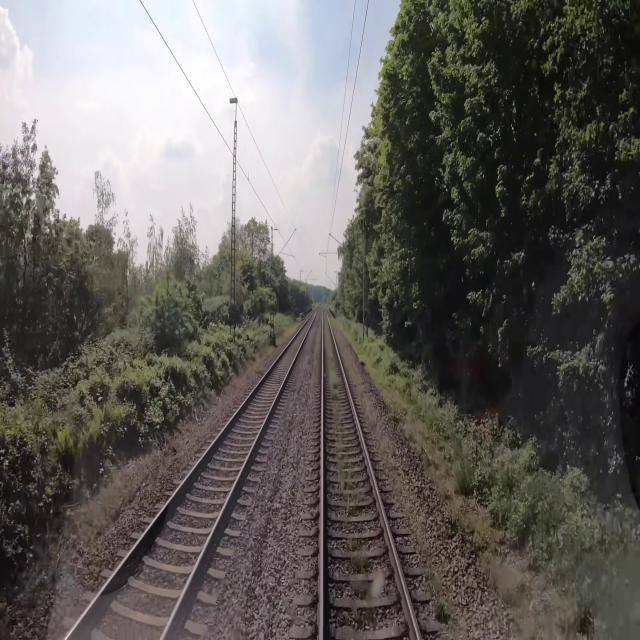Plant: (336, 425, 362, 511), (325, 343, 343, 401), (432, 600, 455, 623), (346, 607, 366, 633), (345, 576, 368, 596), (351, 549, 370, 573), (340, 535, 360, 551)
